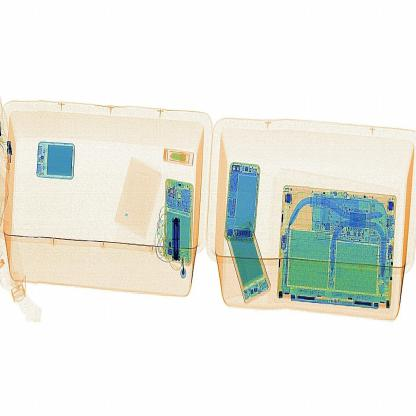scissors: (164, 213, 192, 271)
